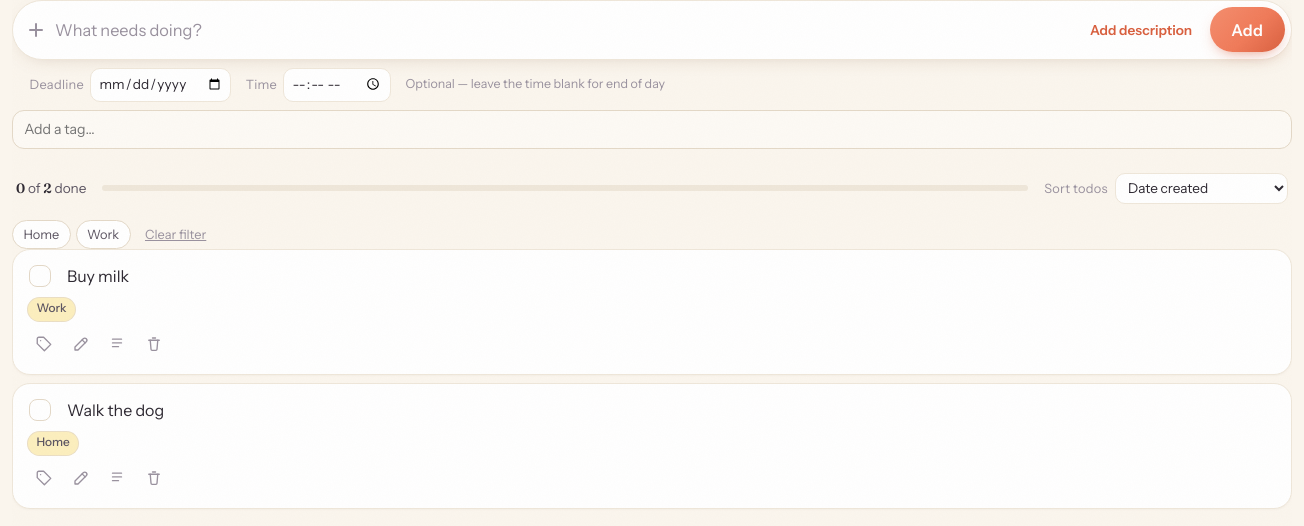
Test: TodoApp tags › filters the list by a single tag
The width and height of the screenshot is (1304, 526).
Expected: the text "Buy milk" is shown, top-left (67, 264), bottom-right (129, 288)
Click the button named "Filter by tag \"Work\"". click: (103, 234)
box: top-left (76, 220), bottom-right (131, 249)
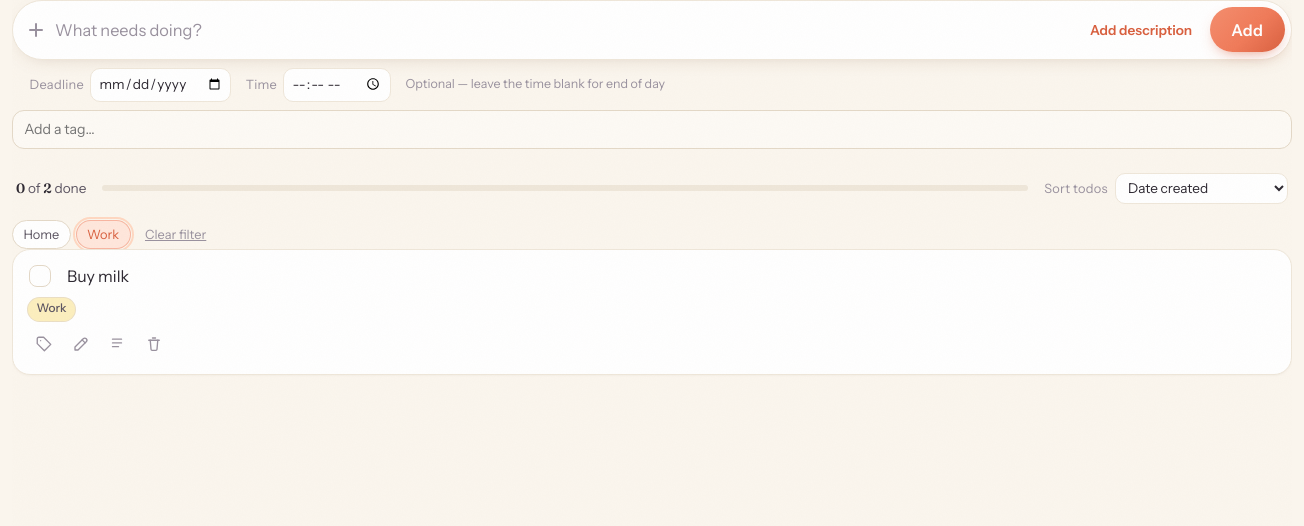
Expected: the text "Buy milk" is shown, top-left (67, 264), bottom-right (129, 288)
Now the text "Walk the dog" is gone
